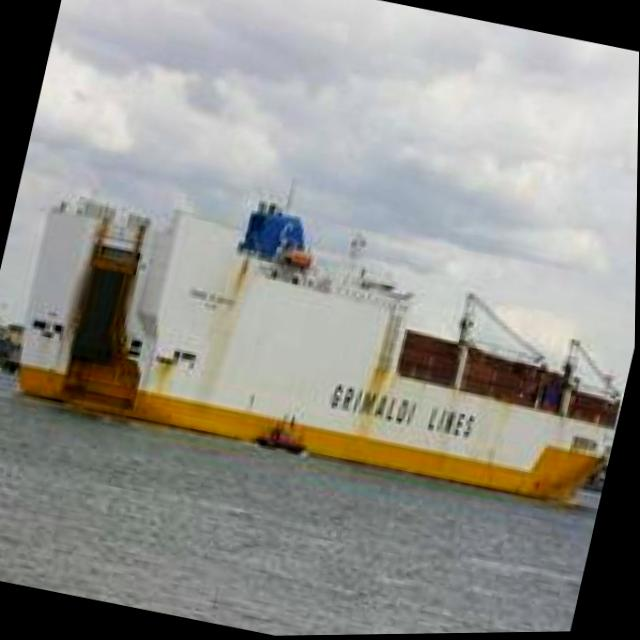ship2: (16, 175, 622, 507)
